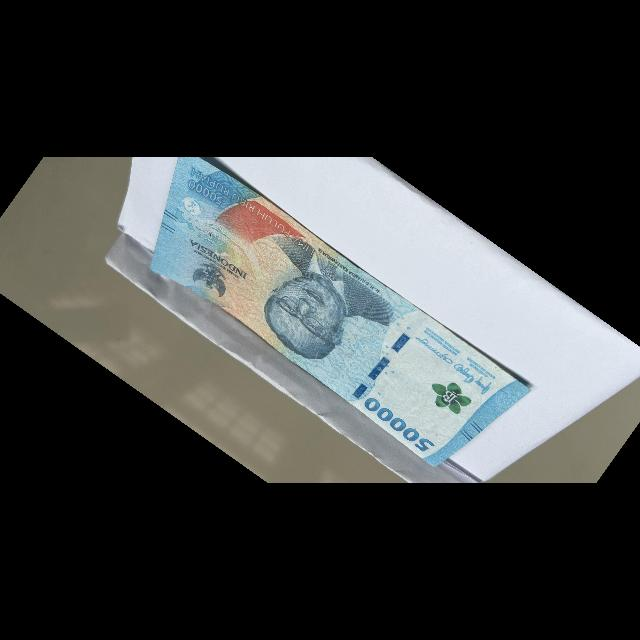Palsu-50k: (133, 157, 537, 493)
Tinta-Palsu-50k: (422, 372, 477, 424)
